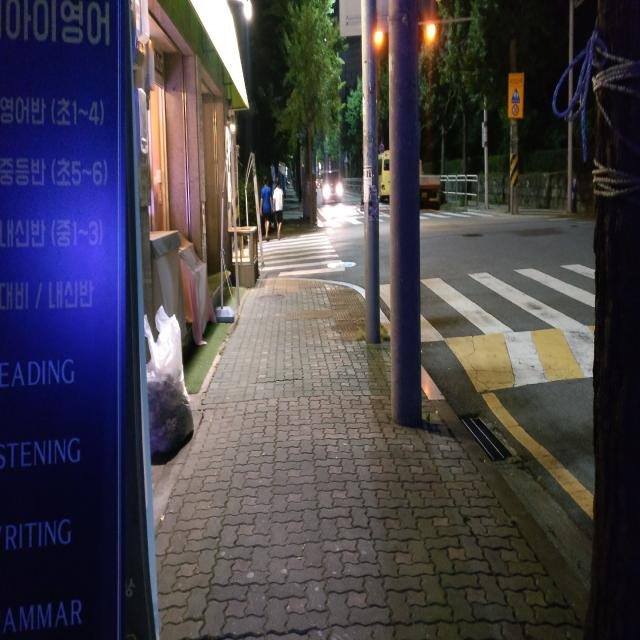횡단보도: (377, 267, 594, 331), (258, 232, 346, 278)
